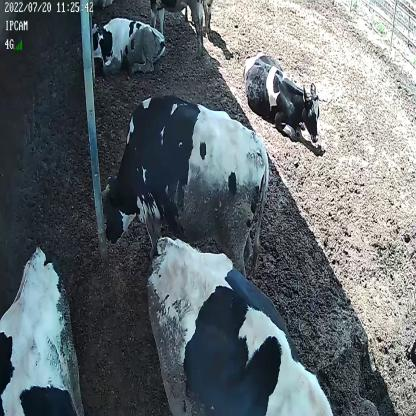cow: (147, 233, 333, 416), (100, 91, 270, 281), (242, 49, 322, 147), (88, 18, 165, 77)
